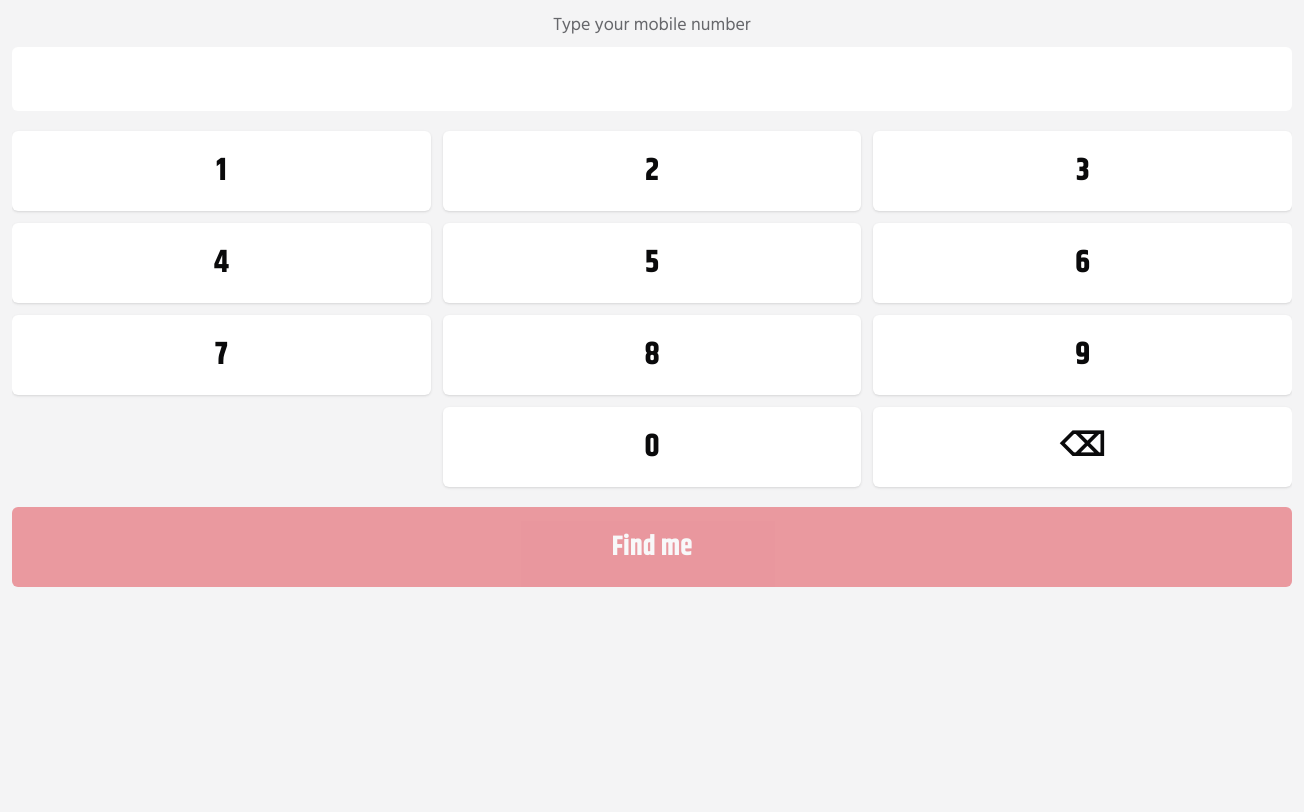
Test: CheckInKeypad › lets a mistyped digit be taken back
Click the button "9": (1083, 355) [873,315,1292,395]
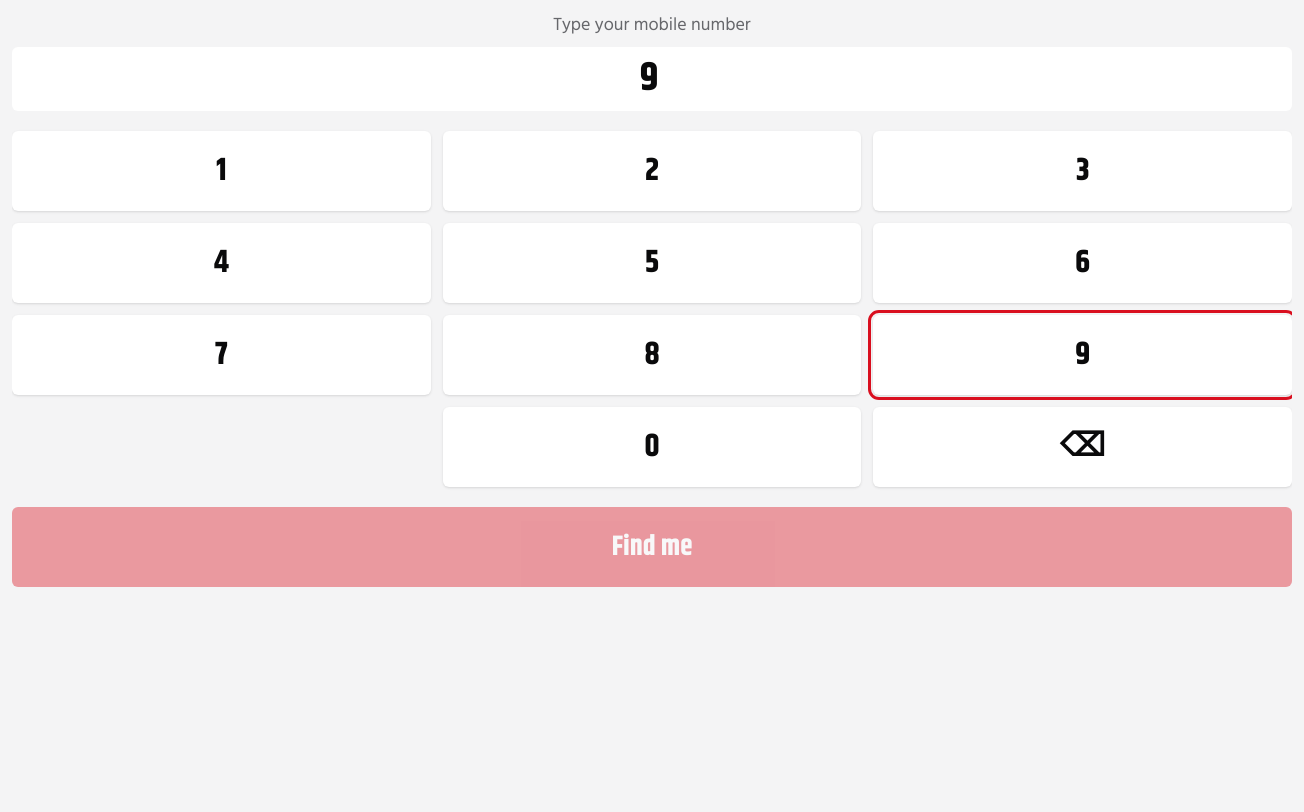
Click the button "8": (652, 355) [443,315,861,395]
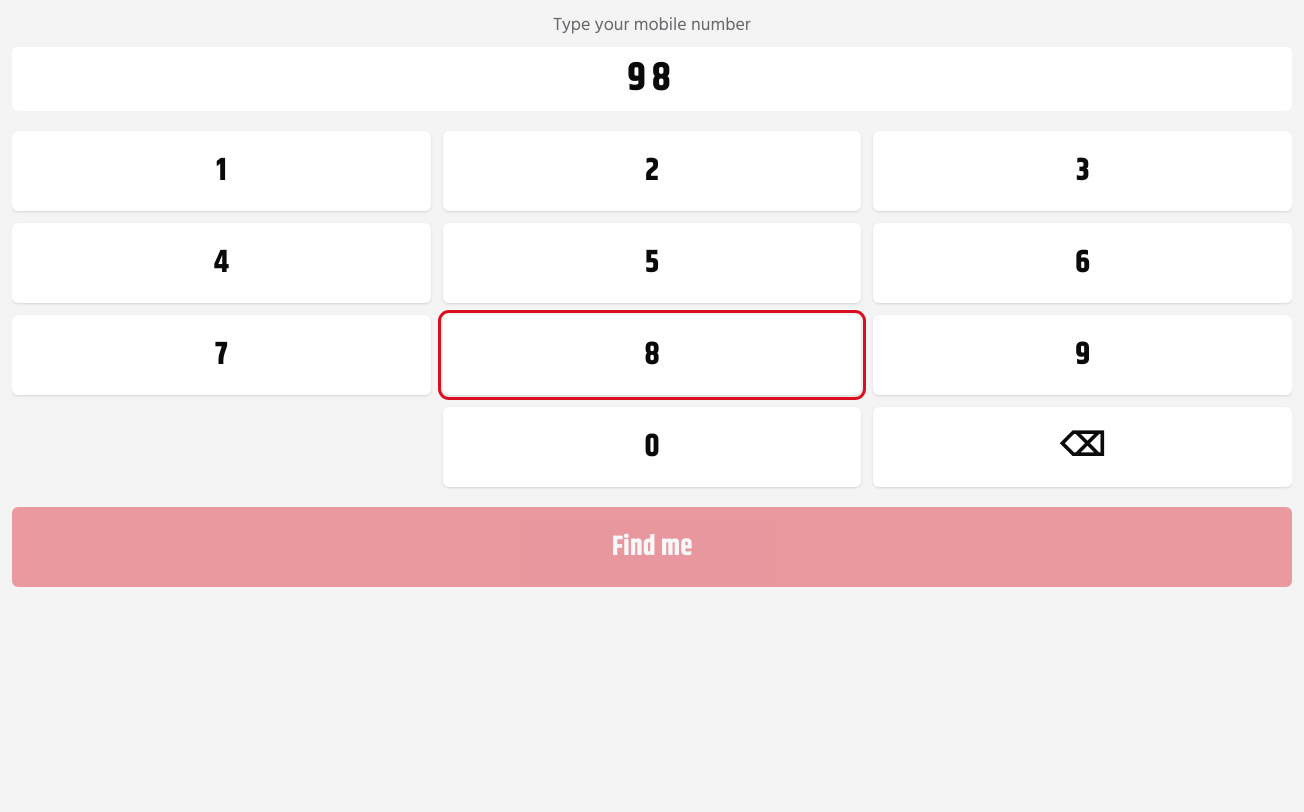
Click the button "7": (221, 355) [12,315,431,395]
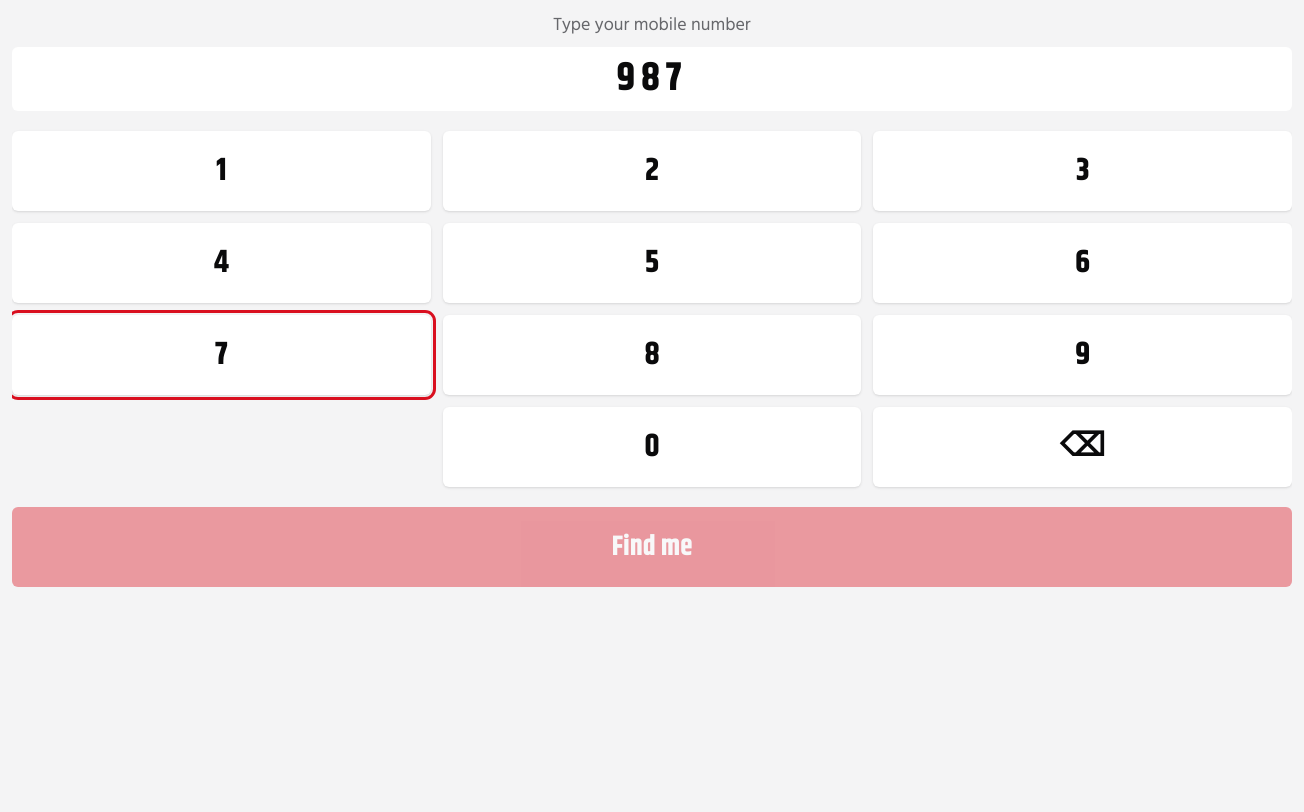
Click the button "6": (1083, 263) [873,223,1292,303]
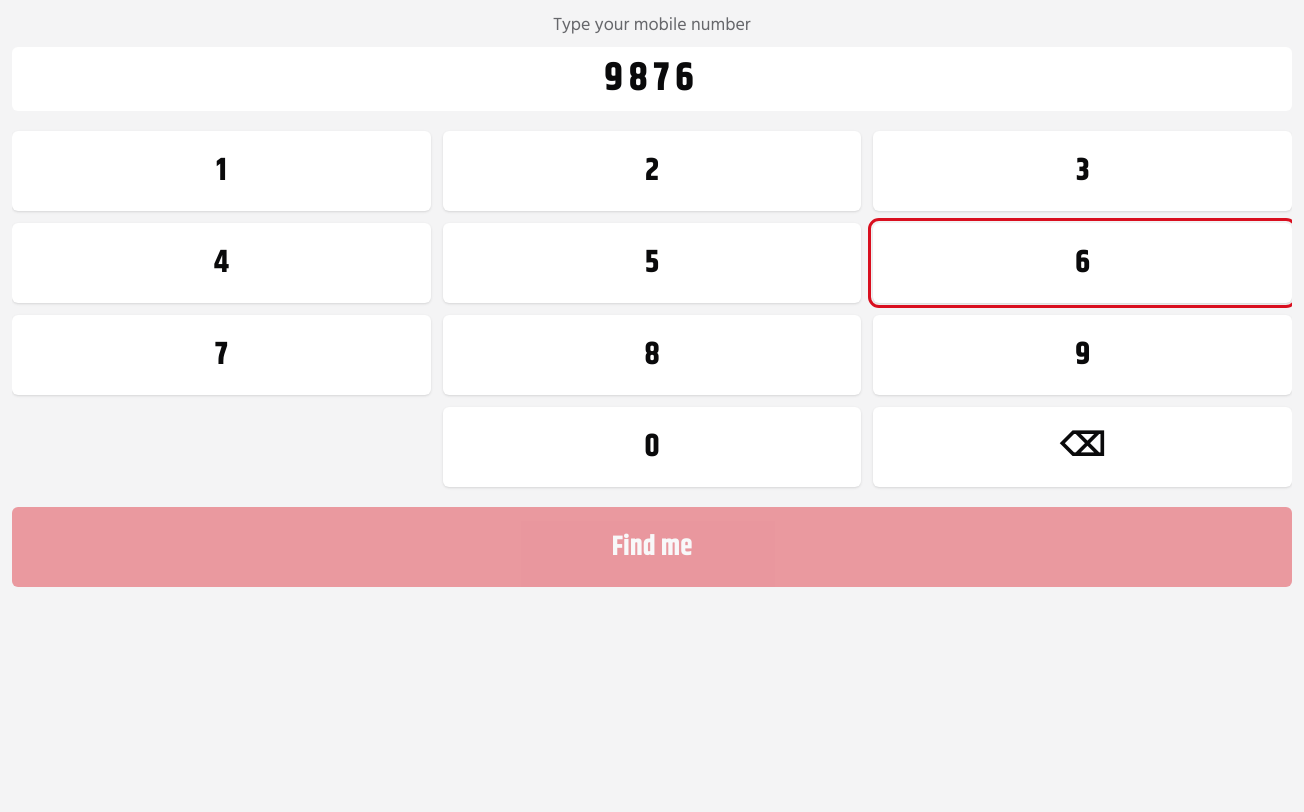
Click the button "5": (652, 263) [443,223,861,303]
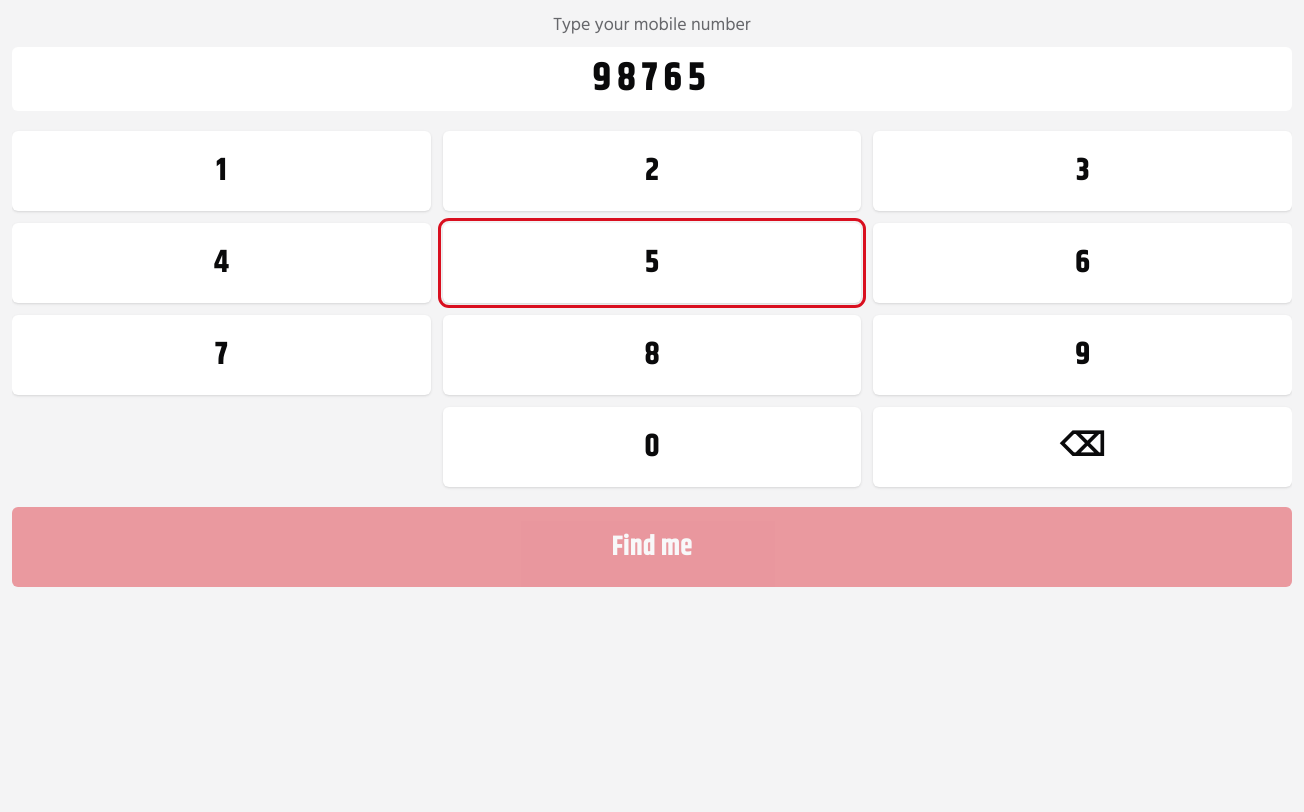
Click the button named "Delete": (1083, 447) [873,407,1292,487]
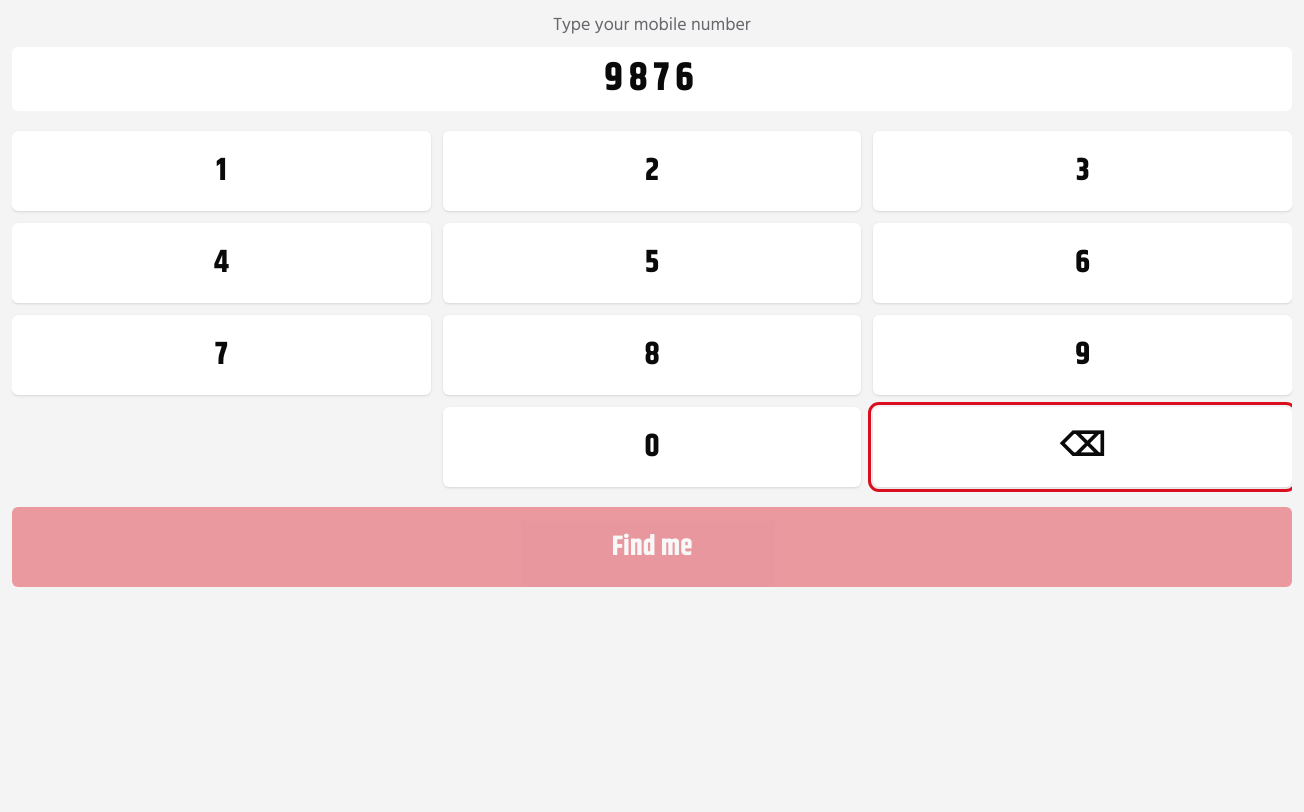
Result: the text named "Mobile number" reads "9876" at [604,48,700,109]
